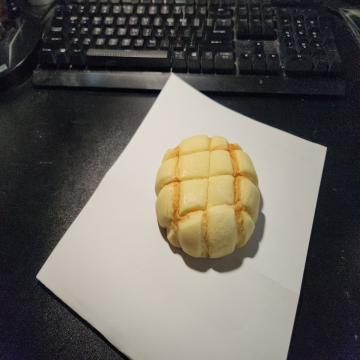melon_bread: (154, 134, 262, 258)
